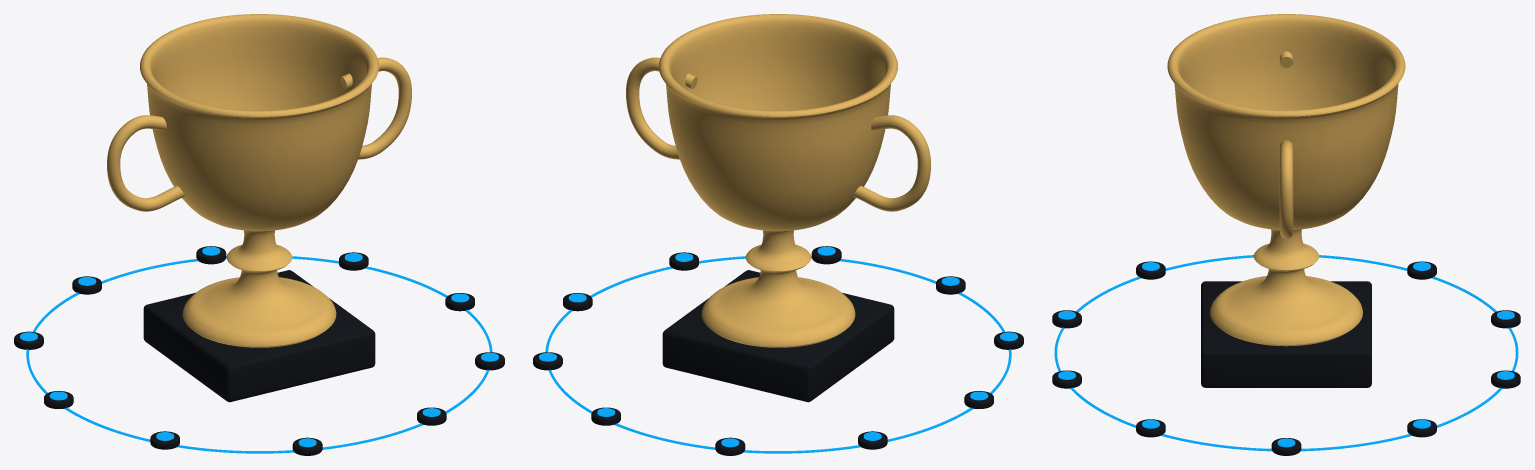
Rendered from trophy.glb.
3 views of the same model, side by side, from view 1: azimuth 30°, elevation 25°; view 2: azimuth 150°, elevation 25°; view 3: azimuth 270°, elevation 25° (orthographic).
Parts seen in each view (by area): view 1: trophy_body; view 2: trophy_body; view 3: trophy_body.
Boxes of the visible parts, left/top/right/bottom form: trophy_body: left=14, top=14, right=504, bottom=455; trophy_body: left=533, top=14, right=1023, bottom=455; trophy_body: left=1052, top=14, right=1520, bottom=455.
Bounding box in the file's own units: 6.6 × 4.32 × 6.3.
